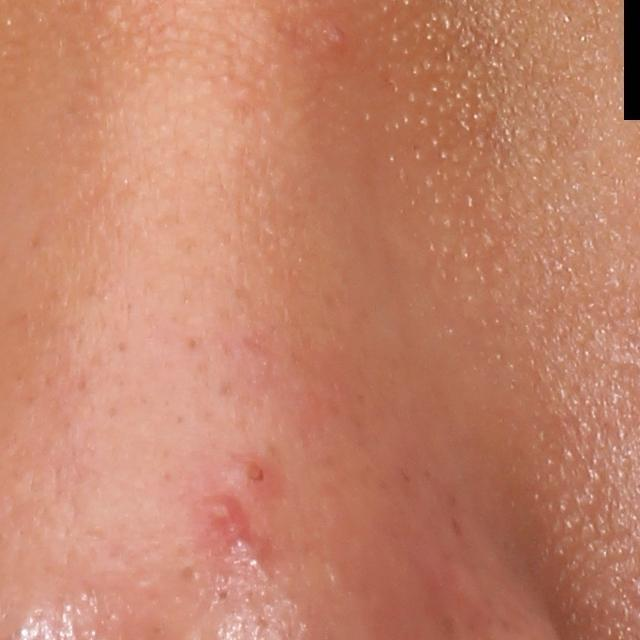papule: (232, 455, 277, 495)
pustule: (200, 492, 243, 524)
